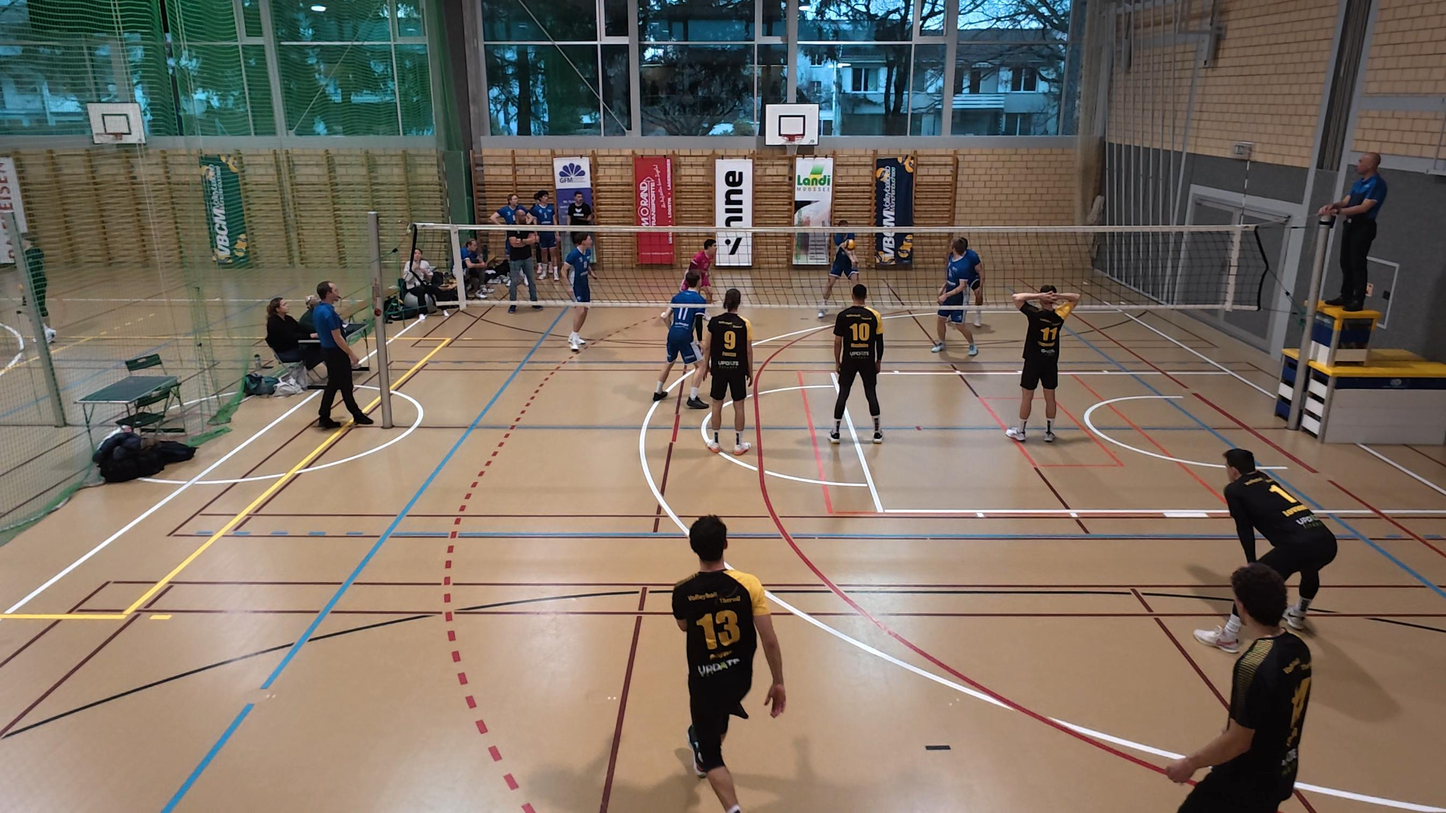ricezione: (816, 218, 860, 318)
